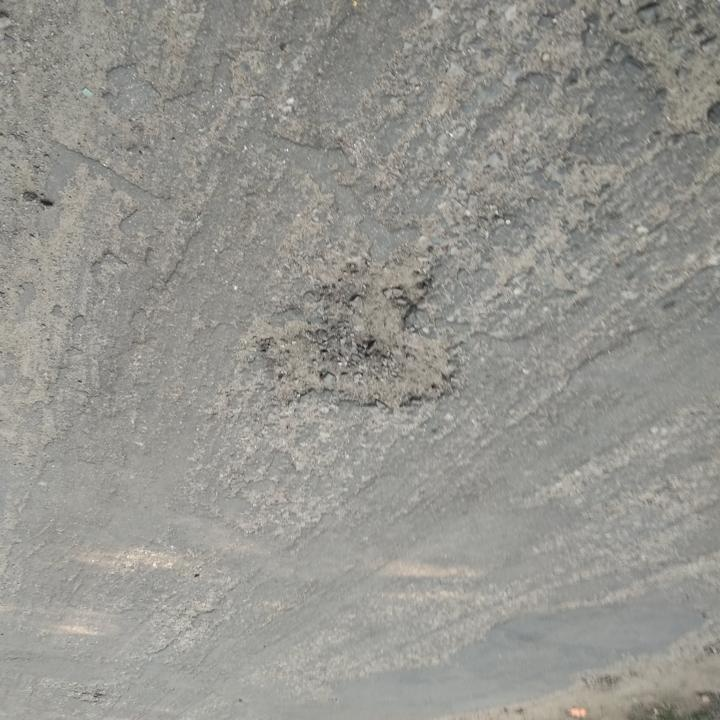pothole: (256, 249, 463, 421)
